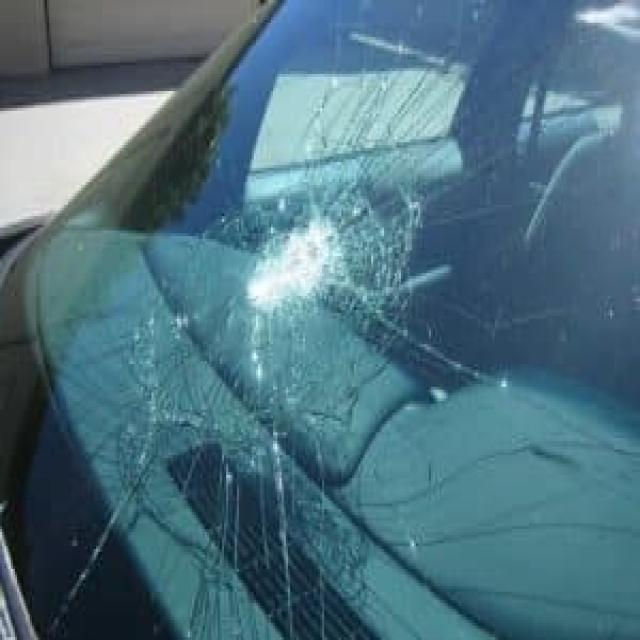crack: (48, 0, 558, 640)
